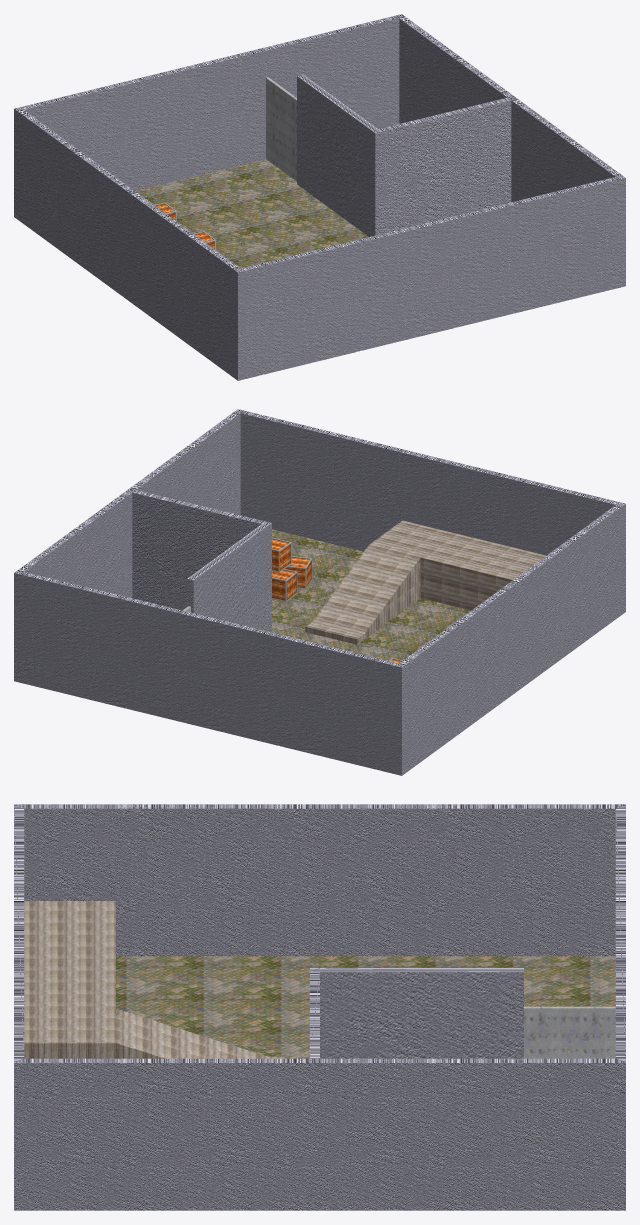
Rendered from Room.dae.
The picture shows the model from 3 angles, top to bottom: view 1: azimuth 30°, elevation 25°; view 2: azimuth 150°, elevation 25°; view 3: azimuth 270°, elevation 25°; orthographic projection. The views are drawn at different scales.
Parts seen in each view (by area): view 1: Scene, Room, Door; view 2: Scene, Room, Wood_001, Crate1, Crate3, Crate4; view 3: Scene, Room, Wood_001, Door.
Part boxes in pixels (left/top/right/bottom): Scene: left=14, top=14, right=625, bottom=380; Room: left=297, top=74, right=511, bottom=236; Door: left=266, top=77, right=296, bottom=181; Scene: left=14, top=409, right=625, bottom=775; Room: left=132, top=490, right=271, bottom=631; Wood_001: left=305, top=520, right=545, bottom=644; Crate1: left=272, top=569, right=297, bottom=602; Crate3: left=272, top=537, right=291, bottom=572; Crate4: left=285, top=556, right=312, bottom=589; Scene: left=14, top=804, right=625, bottom=1210; Room: left=309, top=968, right=523, bottom=1058; Wood_001: left=24, top=901, right=289, bottom=1058; Door: left=524, top=1006, right=615, bottom=1058.
Size of the model in its own units: 150 by 150 by 40.
4 materials, 4 textured.
